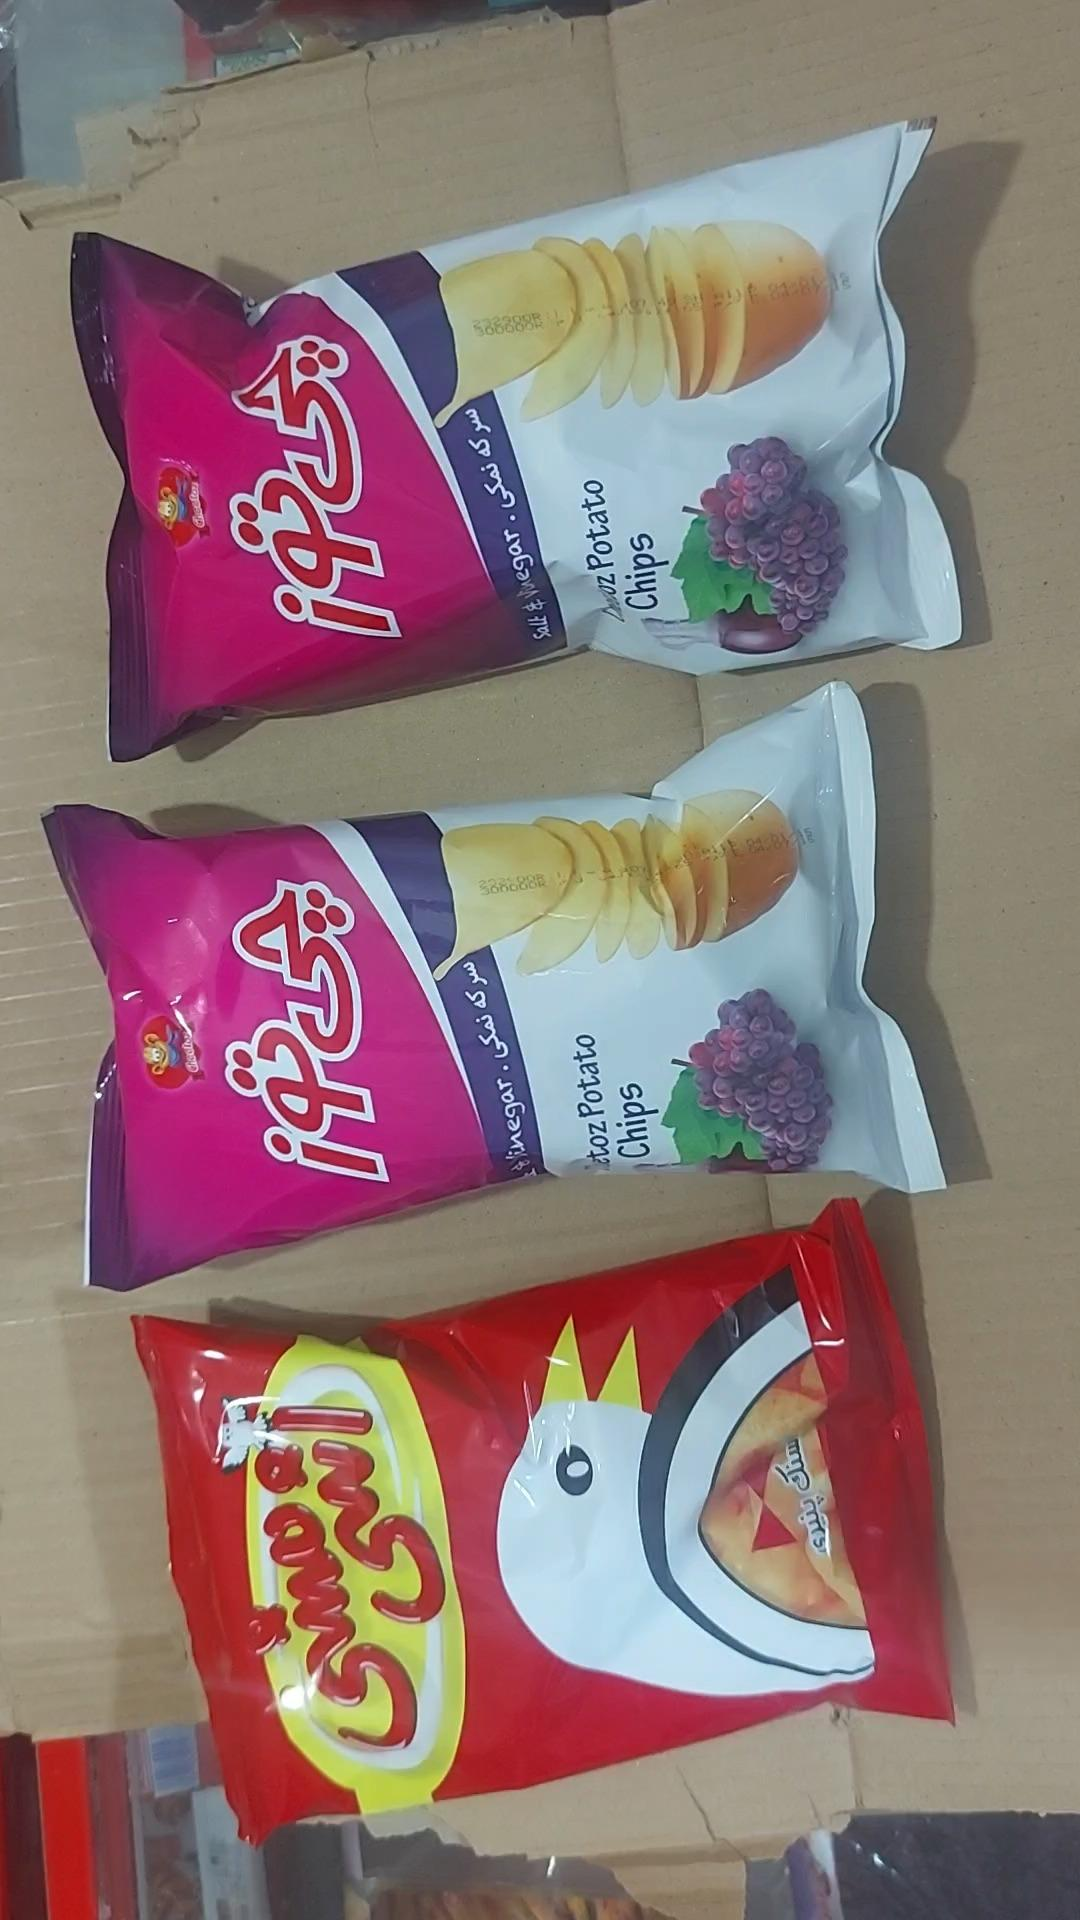Ashi Mashi snacks: (127, 1200, 953, 1846)
Cheetoz vinegar chips: (70, 121, 963, 764), (40, 682, 947, 1296)
